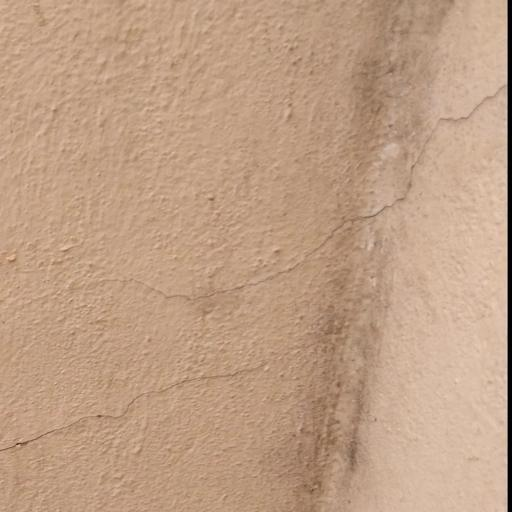minor_crack: (4, 49, 512, 335), (0, 364, 305, 479)
